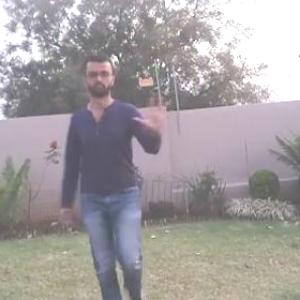follow_hand: (134, 94, 174, 133)
